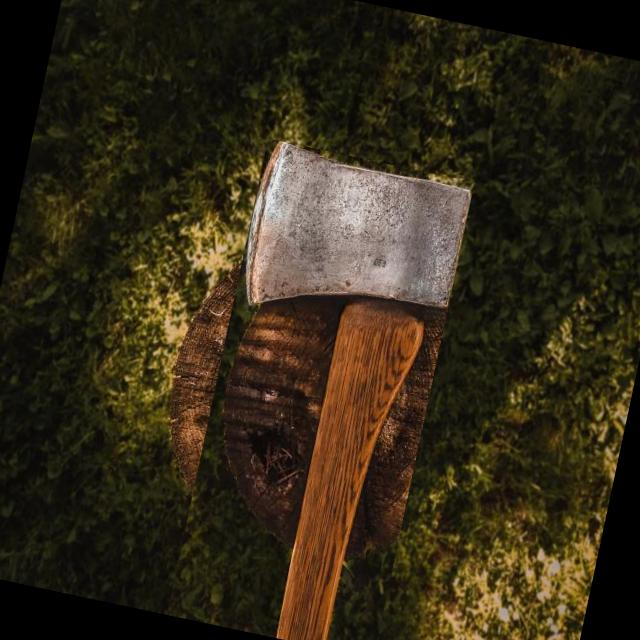Axe: (244, 141, 470, 640), (242, 149, 466, 344)
